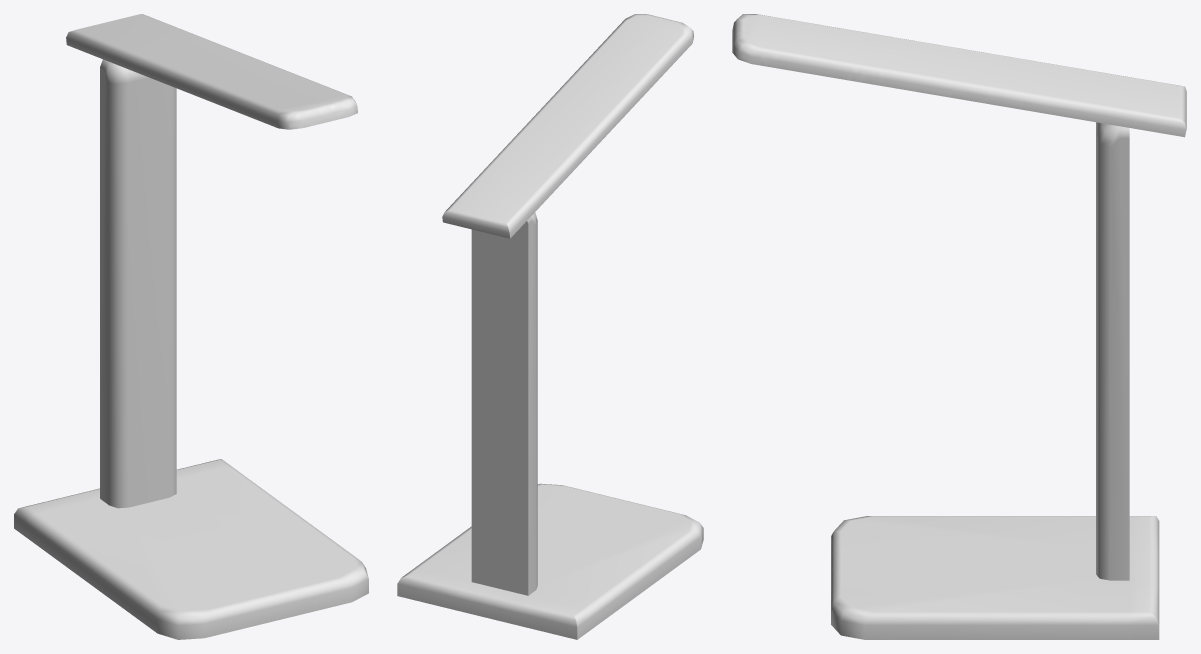
3 renders of one model, left to right at view 1: azimuth 30°, elevation 25°; view 2: azimuth 150°, elevation 25°; view 3: azimuth 270°, elevation 25°, orthographic. The views are drawn at different scales.
Parts seen in each view (by area): view 1: base_low, light_low; view 2: base_low, light_low; view 3: base_low, light_low.
Boxes of the visible parts, x1=… form: base_low: x1=14, y1=59, x2=368, y2=639; light_low: x1=66, y1=14, x2=357, y2=129; base_low: x1=397, y1=212, x2=703, y2=639; light_low: x1=442, y1=14, x2=693, y2=238; base_low: x1=831, y1=122, x2=1159, y2=639; light_low: x1=732, y1=14, x2=1186, y2=137.
Size of the model in its own units: 0.7998 by 2 by 1.47.
Materials: 1 (1 with a texture image).
